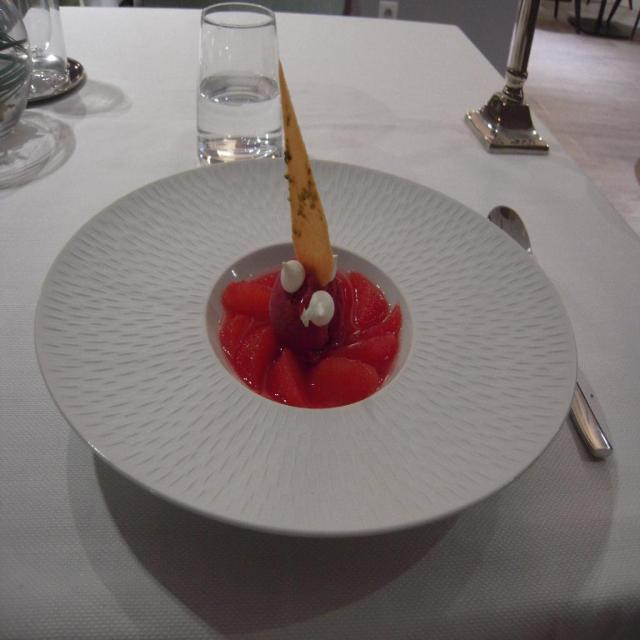non-organic waste: (43, 158, 581, 562)
